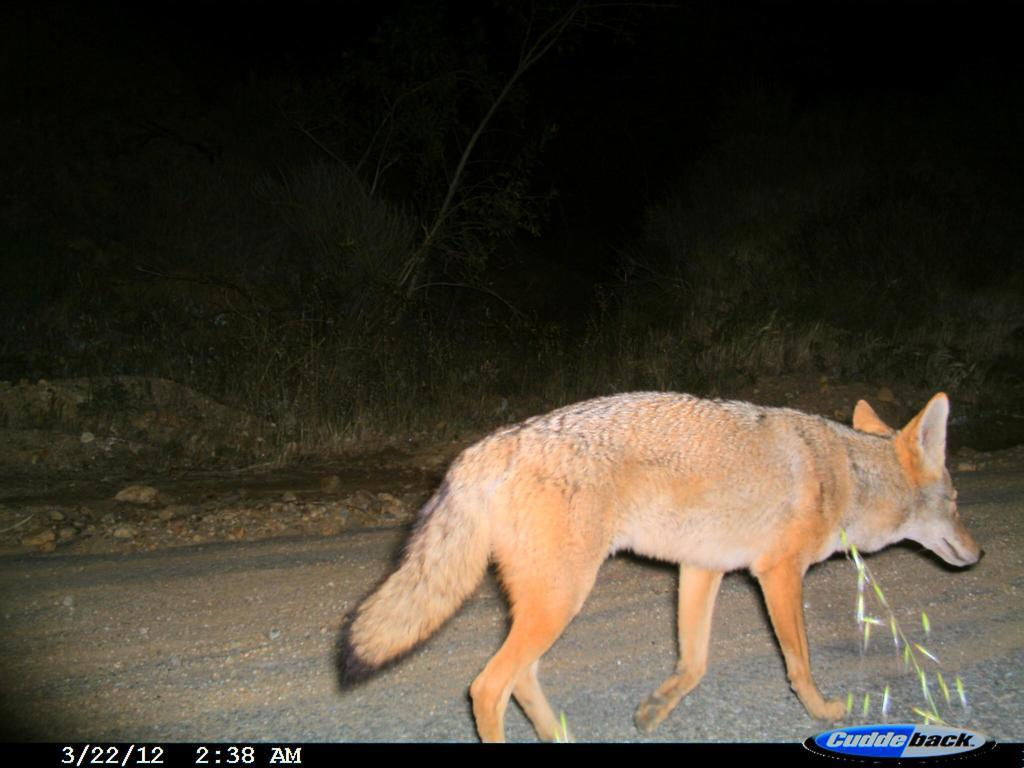coyote: (332, 360, 990, 731)
